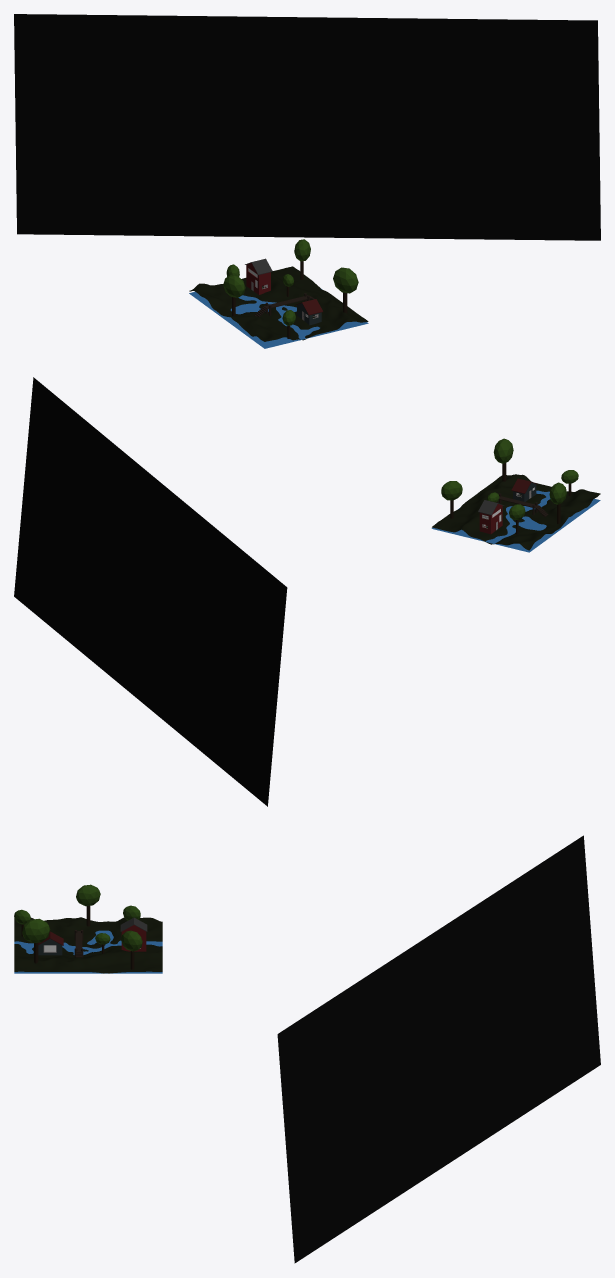
The model's file is VILINHAa.obj.
The picture shows the model from 3 angles, top to bottom: view 1: azimuth 30°, elevation 25°; view 2: azimuth 150°, elevation 25°; view 3: azimuth 270°, elevation 25°; orthographic projection. The views are drawn at different scales.
Visible parts, largest first — view 1: Plane_Plane.012, Landscape.002, Landscape_plane.001, Icosphere.005, Cube.003_Cube.004; view 2: Plane_Plane.012, Landscape.002, Landscape_plane.001; view 3: Plane_Plane.012, Landscape.002, Landscape_plane.001.
Boxes of the visible parts, x1,y1,x2,y2 form: Plane_Plane.012: (14, 14, 600, 240); Landscape.002: (189, 266, 368, 341); Landscape_plane.001: (189, 288, 368, 348); Icosphere.005: (333, 267, 358, 293); Cube.003_Cube.004: (246, 263, 270, 294); Plane_Plane.012: (14, 377, 287, 806); Landscape.002: (432, 474, 600, 550); Landscape_plane.001: (431, 490, 600, 552); Plane_Plane.012: (277, 835, 600, 1263); Landscape.002: (14, 917, 162, 973); Landscape_plane.001: (14, 930, 162, 973).
Size of the model in its own units: 13.09 by 6.09 by 14.21.
